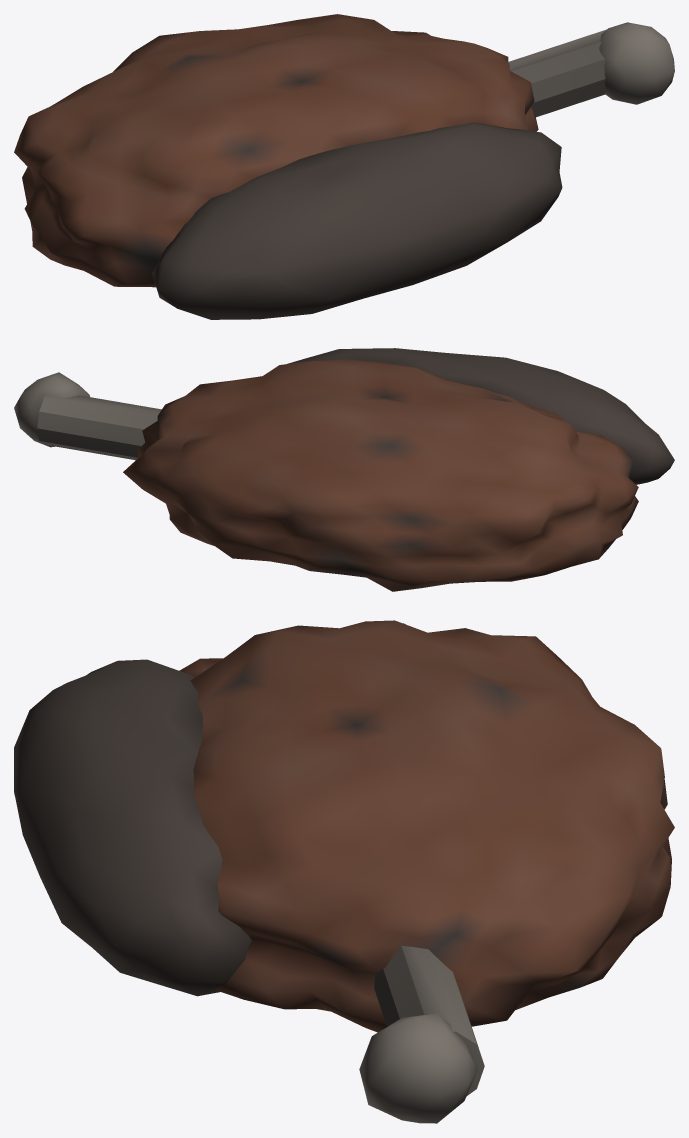
File: burnt-pork.glb
The picture shows the model from 3 angles, top to bottom: view 1: azimuth 30°, elevation 25°; view 2: azimuth 150°, elevation 25°; view 3: azimuth 270°, elevation 25°; orthographic projection. The views are drawn at different scales.
Parts seen in each view (by area): view 1: Body_lod0; view 2: Body_lod0; view 3: Body_lod0.
Boxes of the visible parts, x1,y1,x2,y2 form: Body_lod0: [14, 14, 674, 319]; Body_lod0: [14, 348, 674, 591]; Body_lod0: [14, 620, 674, 1123].
Size of what is drawn, in the model's own units: 0.1635 by 0.0324 by 0.1073.
